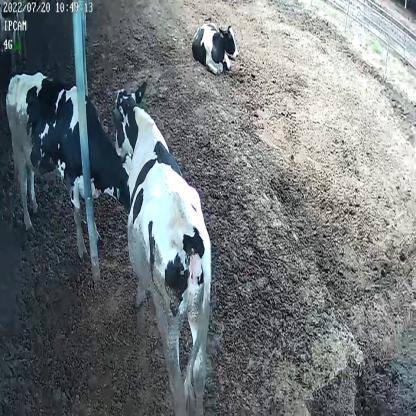cow: (110, 82, 214, 416), (6, 70, 132, 252), (189, 16, 238, 74)
